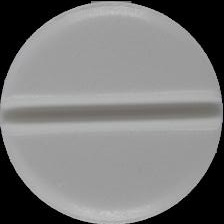16714-374: (0, 0, 224, 224)
